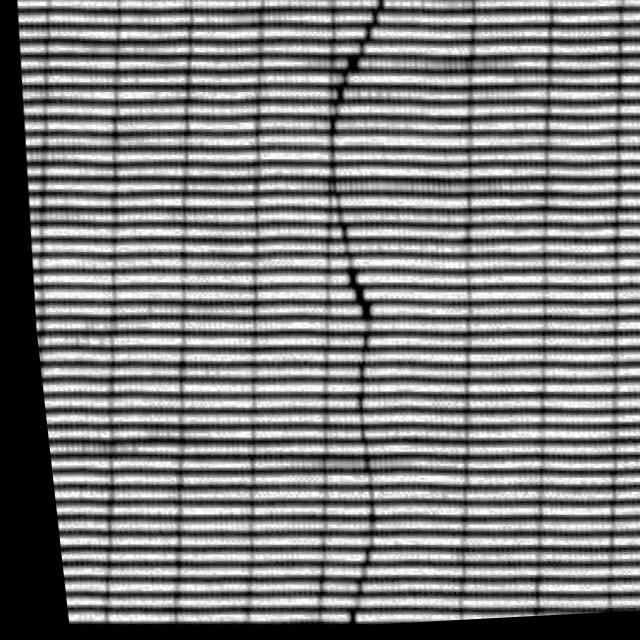Stitch: (277, 0, 440, 338)
